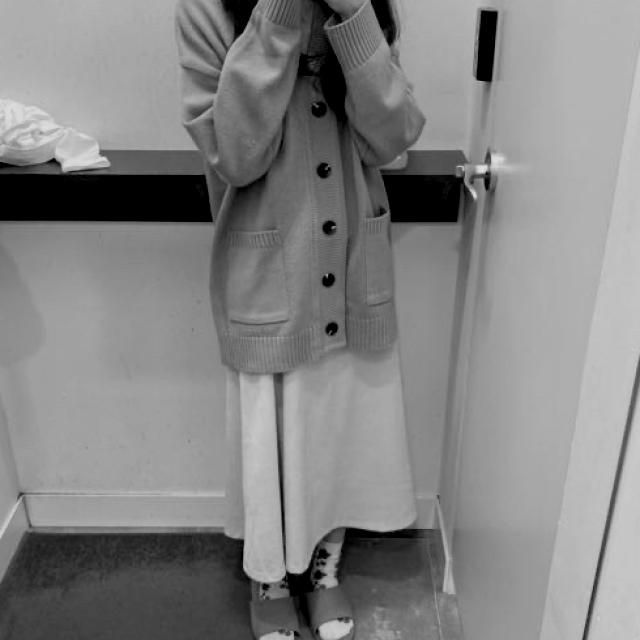cardigan: (176, 0, 426, 372)
skirt: (222, 298, 420, 586)
